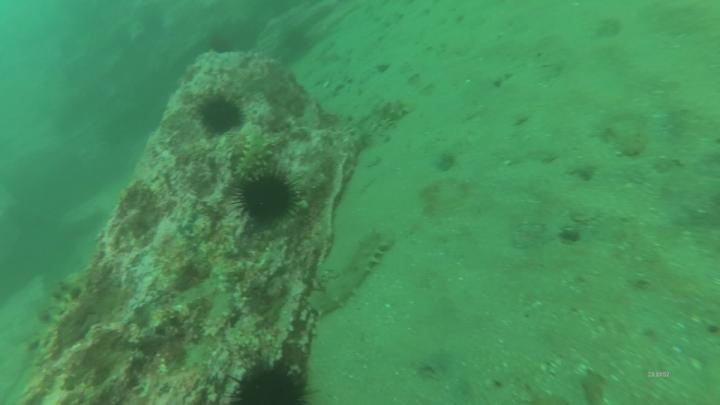echinus: (230, 166, 309, 235), (220, 358, 325, 405), (191, 90, 248, 140)
holothurian: (313, 226, 393, 322), (233, 127, 280, 176)
